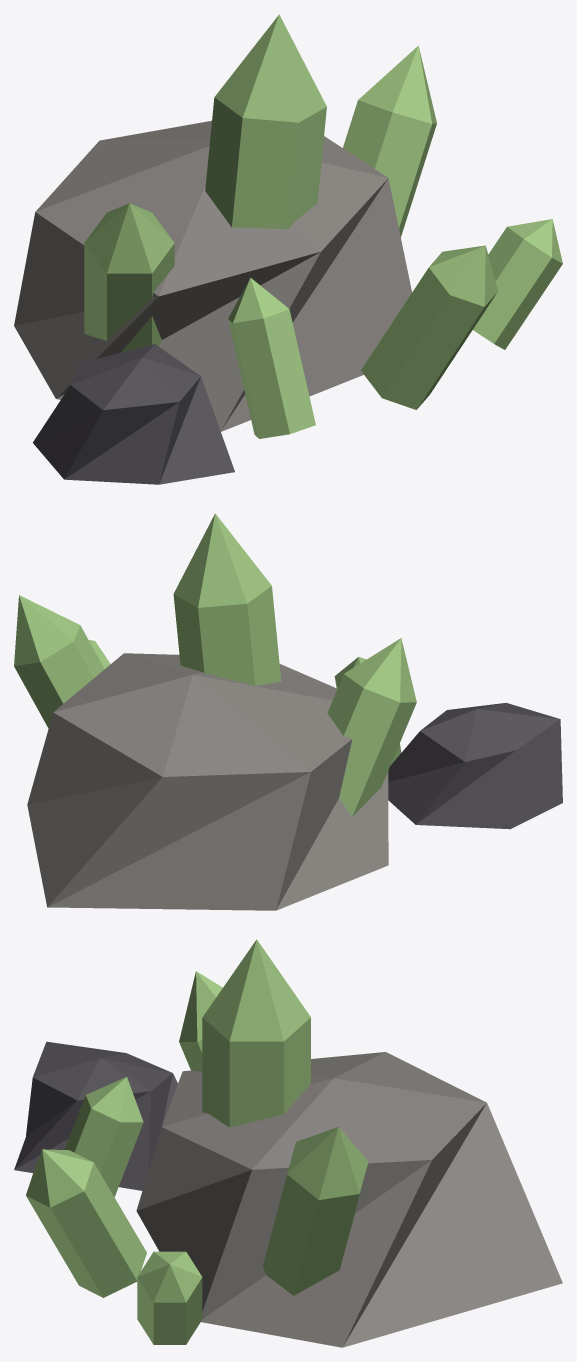
The model's file is uranium.glb.
3 views of the same model, one above another, from view 1: azimuth 30°, elevation 25°; view 2: azimuth 150°, elevation 25°; view 3: azimuth 270°, elevation 25° (orthographic). The views are drawn at different scales.
Parts seen in each view (by area): view 1: LOD0; view 2: LOD0; view 3: LOD0.
Part boxes in pixels (bbox=[...]): LOD0: bbox=[14, 14, 562, 484]; LOD0: bbox=[14, 513, 562, 910]; LOD0: bbox=[14, 939, 562, 1347].
Size of what is drawn, in the model's own units: 0.6573 by 0.4009 by 0.6067.
